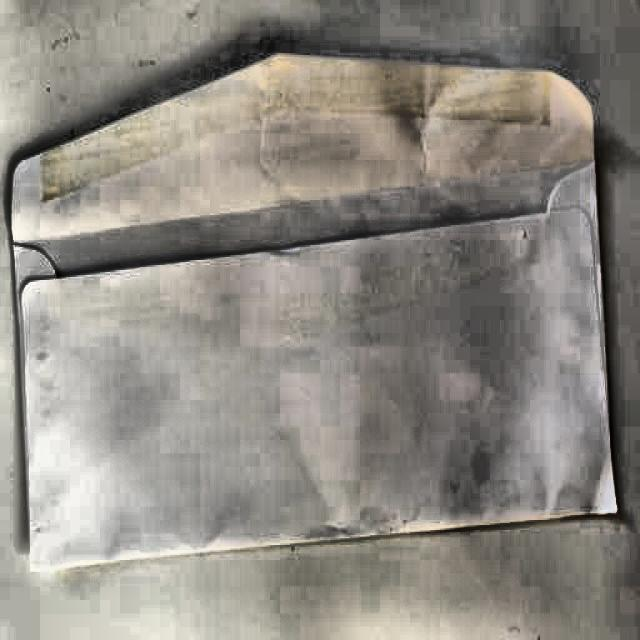paper: (9, 50, 640, 557)
